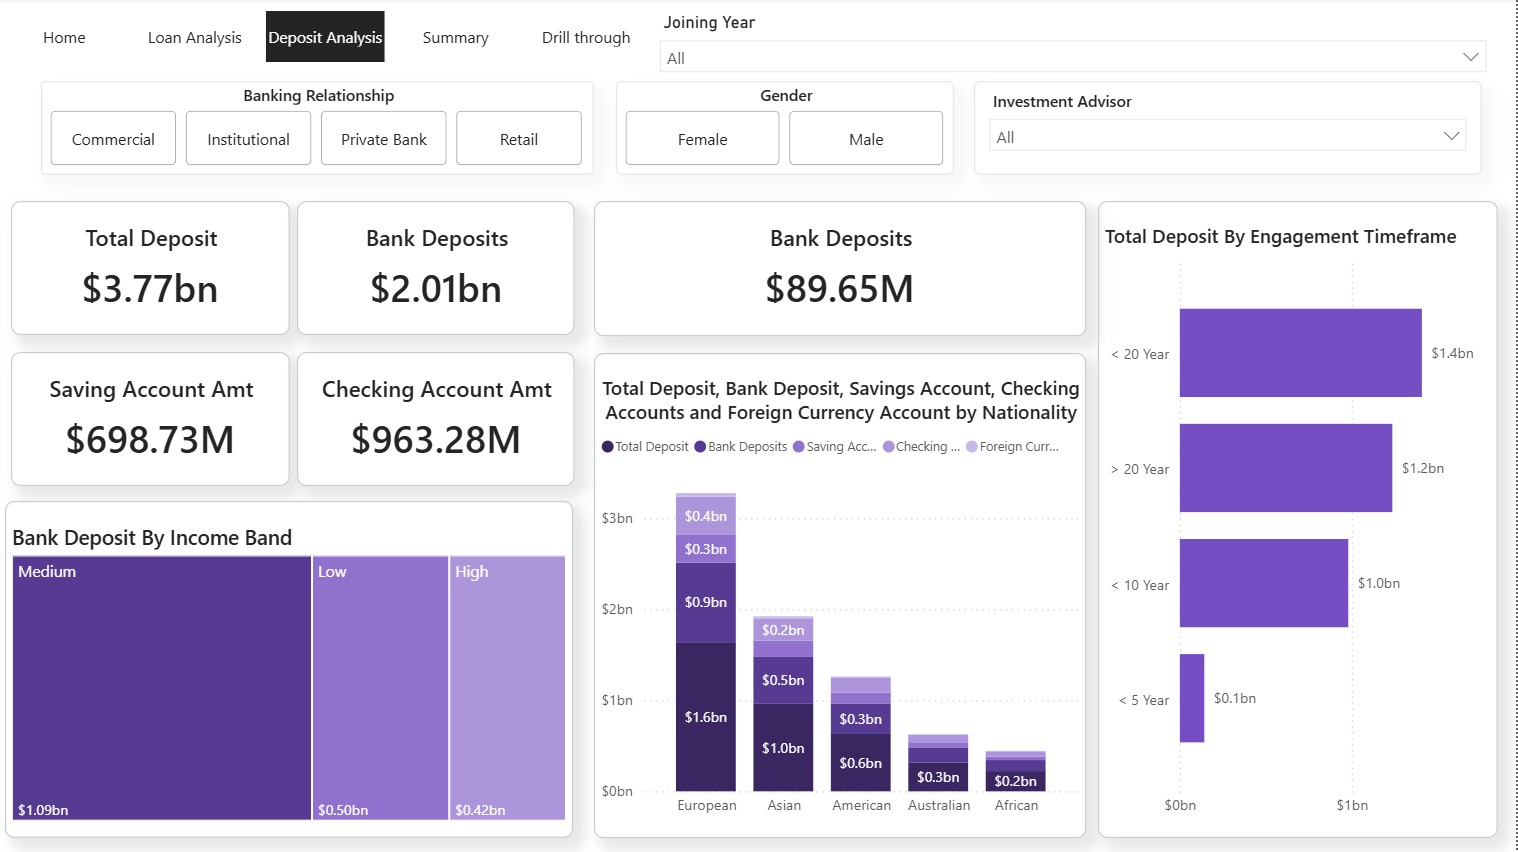

The dashboard page shown, as its layout file describes it:
{"tool":"powerbi","page":{"name":"Deposit Analysis","canvas":[1280,720],"ordinal":2},"visuals":[{"type":"pageNavigator","box":[6.3,10.8,541.9,43.2],"z":0},{"type":"cardVisual","title":"Total Deposit","fields":{"Data":["banking.Total Deposit"]},"box":[10.8,171,234.9,113.4],"z":1000},{"type":"cardVisual","title":"Bank Deposits","fields":{"Data":["Sum(banking.Bank Deposits)"]},"box":[252,171,234,113.4],"z":2000},{"type":"cardVisual","title":"Saving Account Amt","fields":{"Data":["Sum(banking.Saving Accounts)"]},"box":[10.8,298.8,234.9,113.4],"z":3000},{"type":"cardVisual","title":"Checking Account Amt","fields":{"Data":["banking.Total Checking Amount"]},"box":[252,298.8,234,113.4],"z":4000},{"type":"treemap","title":"Bank Deposit By Income Band","fields":{"Group":["banking.Income Band"],"Values":["Sum(banking.Bank Deposits)"]},"box":[6.3,424,478.9,284.4],"z":5000},{"type":"slicer","fields":{"Values":["banking.Joining Year"]},"box":[548.2,7.2,716.5,61.2],"z":6000},{"type":"advancedSlicerVisual","fields":{"Values":["banking-realtionships.Banking Relationship"]},"box":[36,70.2,466.3,79.2],"z":7000},{"type":"advancedSlicerVisual","fields":{"Values":["gender.Gender"]},"box":[521.2,70.2,285.3,79.2],"z":8000},{"type":"slicer","fields":{"Values":["investment-advisiors.Investment Advisor"]},"box":[822.7,70.2,428.5,79.2],"z":9000},{"type":"columnChart","title":"Total Deposit, Bank Deposit, Savings Account, Checking Accounts and Foreign Currency Account by Nationality","fields":{"Category":["banking.Nationality"],"Y":["banking.Total Deposit","Sum(banking.Bank Deposits)","Sum(banking.Saving Accounts)","Sum(banking.Checking Accounts)","Sum(banking.Foreign Currency Account)"]},"box":[502.2,299,414.6,409.2],"z":10000},{"type":"clusteredBarChart","title":"Total Deposit By Engagement Timeframe","fields":{"Category":["banking.Engagement Timeframe"],"Y":["banking.Total Deposit"]},"box":[927.7,170.7,336.9,537.5],"z":11000},{"type":"cardVisual","title":"Bank Deposits","fields":{"Data":["Sum(banking.Foreign Currency Account)"]},"box":[502.2,170.7,414.6,113.8],"z":12000}]}

Visuals, with their boxes in screenshot pixels (x1, y1, x2, y2), scaled from the page's 1280x720 canvas onto the 1518x852 screenshot:
pageNavigator: <bbox>7, 13, 650, 64</bbox>
"Total Deposit" cardVisual: <bbox>13, 202, 291, 337</bbox>
"Bank Deposits" cardVisual: <bbox>299, 202, 576, 337</bbox>
"Saving Account Amt" cardVisual: <bbox>13, 354, 291, 488</bbox>
"Checking Account Amt" cardVisual: <bbox>299, 354, 576, 488</bbox>
"Bank Deposit By Income Band" treemap: <bbox>7, 502, 575, 838</bbox>
slicer - banking.Joining Year: <bbox>650, 9, 1500, 81</bbox>
advancedSlicerVisual - banking-realtionships.Banking Relationship: <bbox>43, 83, 596, 177</bbox>
advancedSlicerVisual - gender.Gender: <bbox>618, 83, 956, 177</bbox>
slicer - investment-advisiors.Investment Advisor: <bbox>976, 83, 1484, 177</bbox>
"Total Deposit, Bank Deposit, Savings Account, Checking Accounts and Foreign Currency Account by Nationality" columnChart: <bbox>596, 354, 1087, 838</bbox>
"Total Deposit By Engagement Timeframe" clusteredBarChart: <bbox>1100, 202, 1500, 838</bbox>
"Bank Deposits" cardVisual: <bbox>596, 202, 1087, 337</bbox>
